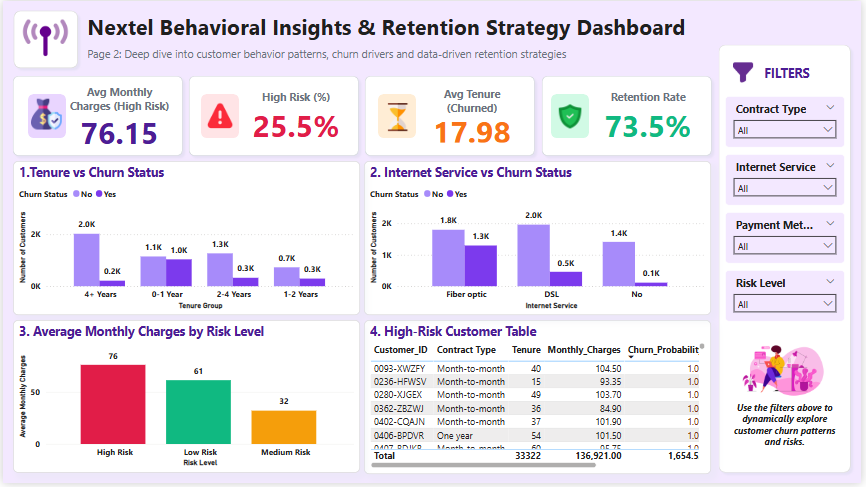

What the dashboard file says about the page in this screenshot:
{"tool":"powerbi","page":{"name":"Page 2","canvas":[1280,720],"ordinal":1},"visuals":[{"type":"textbox","box":[120.9,10.4,907.5,62.7],"z":0},{"type":"textbox","box":[120.9,62.7,735.8,31.3],"z":1000},{"type":"shape","box":[8.7,7.2,109.9,99.8],"z":2000},{"type":"image","box":[26.9,7.5,73.1,95.5],"z":3000},{"type":"shape","box":[1061.2,57.8,211.1,653],"z":4000},{"type":"textbox","box":[1131.3,89.6,77.6,41.8],"z":5000},{"type":"slicer","fields":{"Values":["telecom_churn vw_base_telco_churn.Contract"]},"box":[1077.1,141.7,179.3,76.6],"z":6000},{"type":"slicer","fields":{"Values":["telecom_churn vw_base_telco_churn.Internet_Service"]},"box":[1077.1,228.4,179.3,76.6],"z":7000},{"type":"slicer","fields":{"Values":["telecom_churn vw_base_telco_churn.Customer_Feedback"]},"box":[1077.1,315.2,179.3,76.6],"z":8000},{"type":"slicer","fields":{"Values":["telecom_churn vw_base_telco_churn.Risk_Level"]},"box":[1077.1,401.9,179.3,76.6],"z":9000},{"type":"textbox","box":[1081.4,592.8,169.2,78.1],"z":10000},{"type":"image","box":[1089.6,86.6,29.9,40.3],"z":11000},{"type":"image","box":[1100,488.1,129.9,126.9],"z":12000},{"type":"shape","box":[7.2,105.1,268.9,134.5],"z":13000},{"type":"card","title":"Avg Monthly Charges (High Risk)","fields":{"Values":["telecom_churn vw_avg_churn_probability_by_risk.kpi_monthlycharges(highrisk)"]},"box":[94,125.4,159.7,95.5],"z":14000},{"type":"shape","box":[270.4,105.1,268.9,134.5],"z":15000},{"type":"shape","box":[533.5,105.1,268.9,134.5],"z":16000},{"type":"card","title":"High Risk (%)","fields":{"Values":["telecom_churn vw_avg_churn_probability_by_risk.kpi_high_risk%"]},"box":[352.1,132.6,170.6,81],"z":17000},{"type":"shape","box":[796.6,105.1,268.9,134.5],"z":18000},{"type":"card","title":"Retention Rate","fields":{"Values":["telecom_churn vw_avg_churn_probability_by_risk.kpi_retention_rate"]},"box":[874,132.6,176.4,81],"z":19000},{"type":"card","title":"Avg Tenure (Churned)","fields":{"Values":["telecom_churn vw_avg_churn_probability_by_risk.kpi_avg_tenure(churned)"]},"box":[616.4,128.4,167.2,88.1],"z":20000},{"type":"shape","box":[817.9,138.8,56.7,65.7],"z":21000},{"type":"shape","box":[295.5,138.8,56.7,65.7],"z":22000},{"type":"shape","box":[559.7,138.8,56.7,65.7],"z":23000},{"type":"shape","box":[37.3,138.8,56.7,65.7],"z":24000},{"type":"image","box":[41.8,132.8,46.3,71.6],"z":25000},{"type":"image","box":[304.5,147.8,38.8,46.3],"z":26000},{"type":"image","box":[567.2,152.2,44.8,41.8],"z":27000},{"type":"image","box":[823.9,143.3,44.8,58.2],"z":28000},{"type":"tableEx","title":"4. High-Risk Customer Table","fields":{"Values":["telecom_churn vw_base_telco_churn.Customer_ID","telecom_churn vw_base_telco_churn.Contract","Sum(telecom_churn vw_base_telco_churn.Tenure)","Sum(telecom_churn vw_base_telco_churn.Monthly_Charges)","Sum(telecom_churn vw_base_telco_churn.Churn_Probability)","telecom_churn vw_base_telco_churn.Risk_Level","telecom_churn vw_base_telco_churn.Customer_Feedback"]},"box":[537.8,475.7,517.6,229.9],"z":29000},{"type":"clusteredColumnChart","title":"2. Internet Service vs Churn Status","fields":{"Y":["CountNonNull(telecom_churn vw_base_telco_churn.Customer_ID)"],"Series":["telecom_churn vw_base_telco_churn.Churn_Status"],"Category":["telecom_churn vw_base_telco_churn.Internet_Service"]},"box":[538.8,238.8,517.9,229.9],"z":30000},{"type":"clusteredColumnChart","title":"1.Tenure vs Churn Status","fields":{"Y":["CountNonNull(telecom_churn vw_base_telco_churn.Customer_ID)"],"Series":["telecom_churn vw_base_telco_churn.Churn_Status"],"Category":["telecom_churn vw_base_telco_churn.Tenure_Group"]},"box":[14.9,238.8,517.9,229.9],"z":31000},{"type":"clusteredColumnChart","title":"3. Average Monthly Charges by Risk Level","fields":{"Category":["telecom_churn vw_base_telco_churn.Risk_Level"],"Y":["Avg(telecom_churn vw_base_telco_churn.Monthly_Charges)"]},"box":[14.9,476.1,517.9,228.4],"z":32000}]}

Visuals, with their boxes in screenshot pixels (x1, y1, x2, y2), scaled from the page's 1280x720 canvas onto the 866x487 screenshot:
textbox: (82,7,696,49)
textbox: (82,42,580,64)
shape: (6,5,80,72)
image: (18,5,68,70)
shape: (718,39,861,481)
textbox: (765,61,818,89)
slicer - telecom_churn vw_base_telco_churn.Contract: (729,96,850,148)
slicer - telecom_churn vw_base_telco_churn.Internet_Service: (729,154,850,206)
slicer - telecom_churn vw_base_telco_churn.Customer_Feedback: (729,213,850,265)
slicer - telecom_churn vw_base_telco_churn.Risk_Level: (729,272,850,324)
textbox: (732,401,846,454)
image: (737,59,757,86)
image: (744,330,832,416)
shape: (5,71,187,162)
"Avg Monthly Charges (High Risk)" card: (64,85,172,149)
shape: (183,71,365,162)
shape: (361,71,543,162)
"High Risk (%)" card: (238,90,354,144)
shape: (539,71,721,162)
"Retention Rate" card: (591,90,711,144)
"Avg Tenure (Churned)" card: (417,87,530,146)
shape: (553,94,592,138)
shape: (200,94,238,138)
shape: (379,94,417,138)
shape: (25,94,64,138)
image: (28,90,60,138)
image: (206,100,232,131)
image: (384,103,414,131)
image: (557,97,588,136)
"4. High-Risk Customer Table" tableEx: (364,322,714,477)
"2. Internet Service vs Churn Status" clusteredColumnChart: (365,162,715,317)
"1.Tenure vs Churn Status" clusteredColumnChart: (10,162,360,317)
"3. Average Monthly Charges by Risk Level" clusteredColumnChart: (10,322,360,477)
